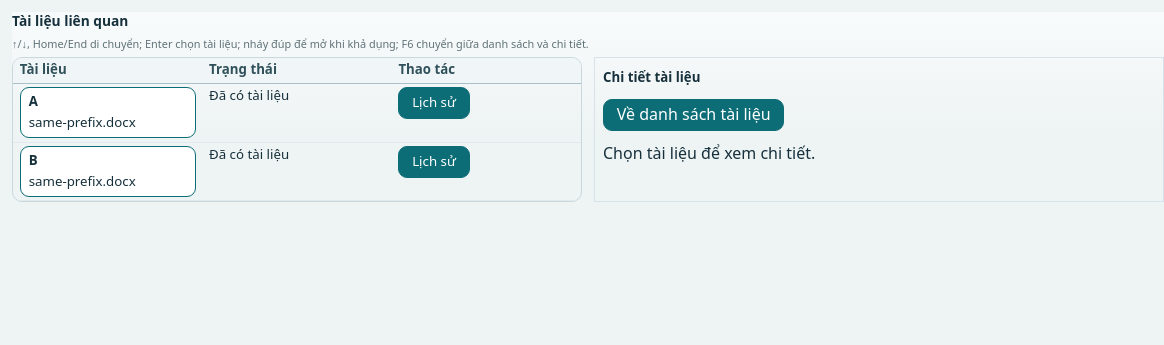
Test: Document workspace identity and focus › ignores stale metadata 403 after same-event A → B → A
Click the button with aria-label "Chọn A" at (108, 113), box [20,87,196,138]
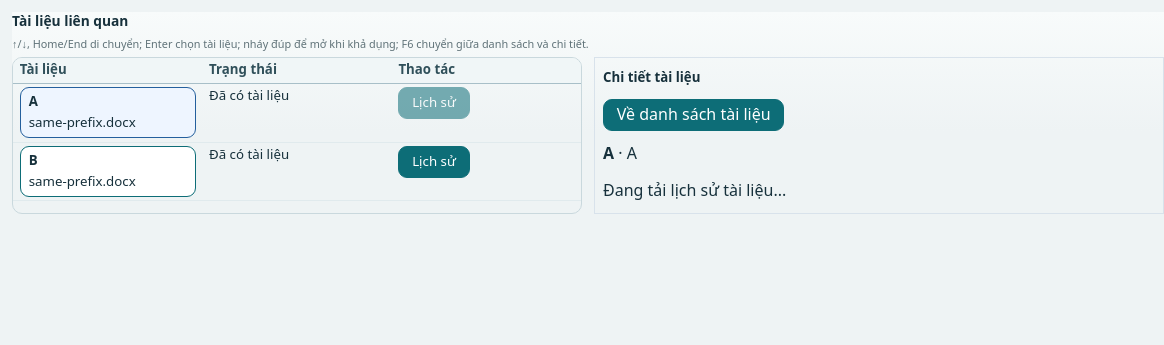
Click the button with aria-label "Chọn B" at (108, 171), box [20,146,196,197]
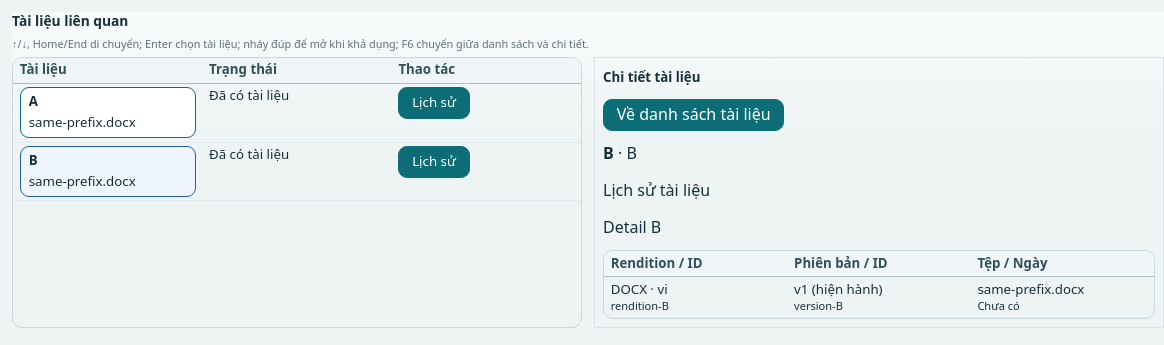
Result: the text "Detail B" is shown at [603,216,661,238]
Click the button with aria-label "Chọn A" at (108, 113), box [20,87,196,138]
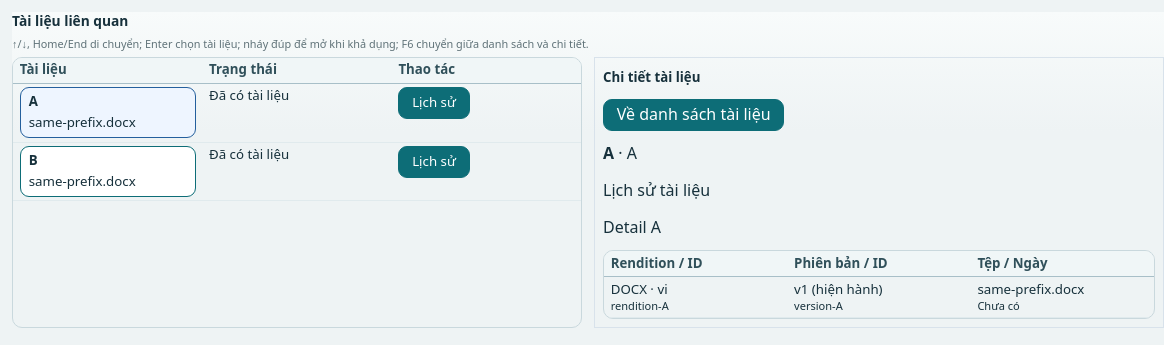
Expected: the message "Đang tải lịch sử tài liệu..." is not shown
Result: the text "Detail A" is shown at [603,216,661,238]
